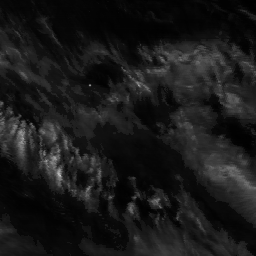Target: (88, 83, 92, 87)
